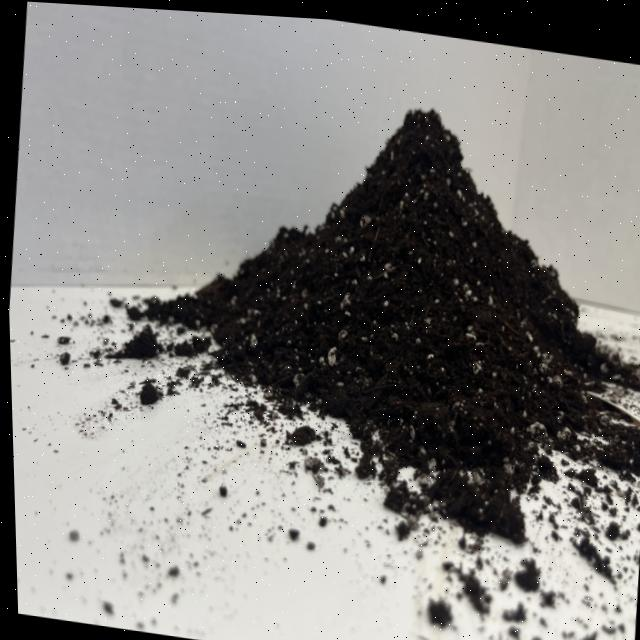soil: (91, 57, 640, 563)
